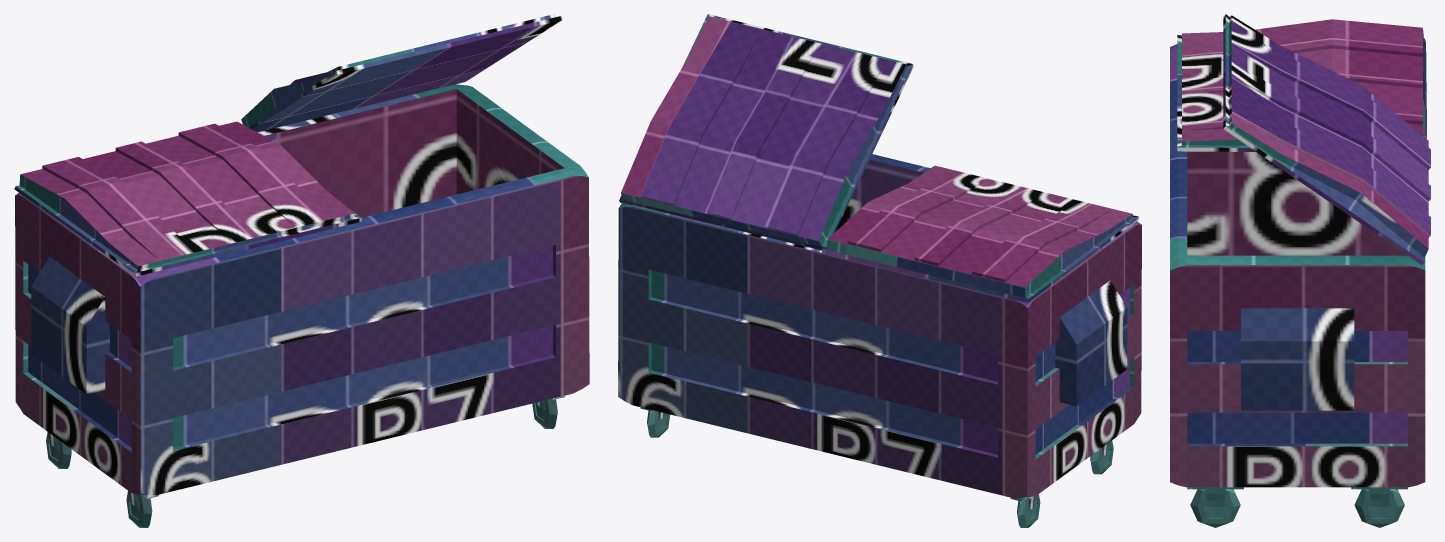
File: Lixao.fbx
3 renders of one model, left to right at view 1: azimuth 30°, elevation 25°; view 2: azimuth 150°, elevation 25°; view 3: azimuth 270°, elevation 25°, orthographic. The views are drawn at different scales.
Parts seen in each view (by area): view 1: Lixao; view 2: Lixao; view 3: Lixao.
Boxes of the visible parts, x1,y1,x2,y2 form: Lixao: [14, 14, 589, 527]; Lixao: [618, 14, 1141, 527]; Lixao: [1170, 14, 1430, 527].
Size of the model in its own units: 401 by 320 by 183.
